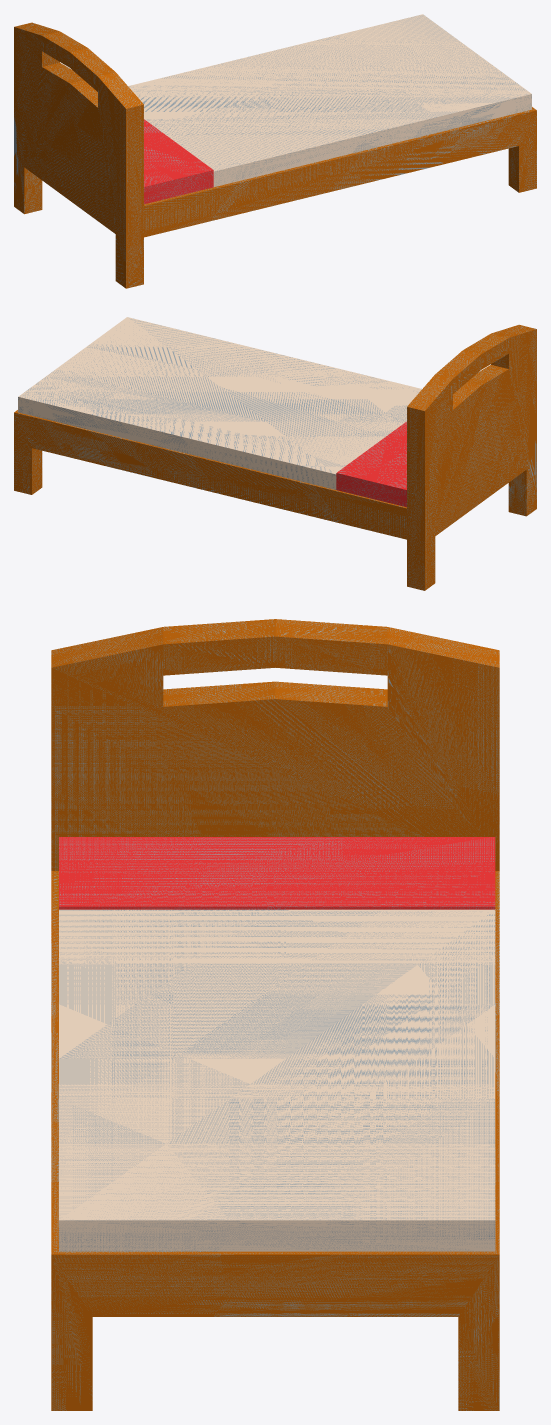
Rendered from bedModel.dae.
3 views of the same model, one above another, from view 1: azimuth 30°, elevation 25°; view 2: azimuth 150°, elevation 25°; view 3: azimuth 270°, elevation 25° (orthographic). The views are drawn at different scales.
Parts seen in each view (by area): view 1: Bed (×4); view 2: Bed (×4); view 3: Bed (×4).
Part boxes in pixels (x1=…): Bed (×4): x1=14, y1=14, x2=536, y2=288; Bed (×4): x1=14, y1=317, x2=536, y2=590; Bed (×4): x1=51, y1=619, x2=499, y2=1410.
Bounding box in the file's own units: 108 × 51.18 × 49.21.
